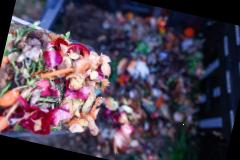organic: (42, 46, 68, 74), (0, 84, 20, 110)
